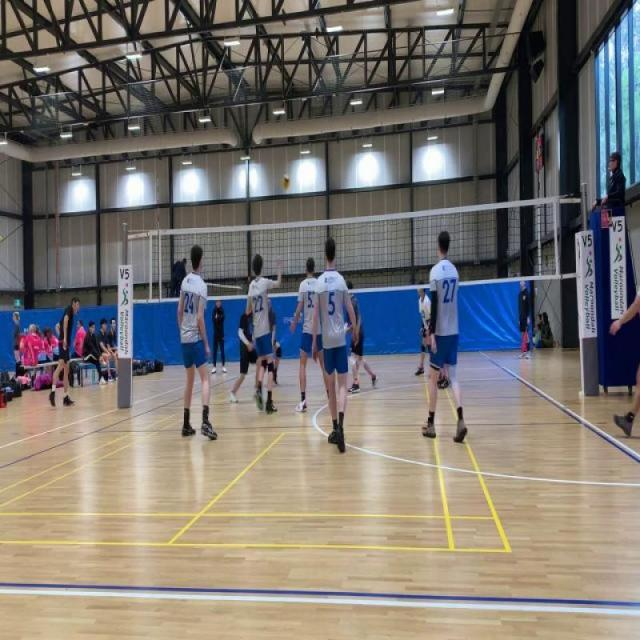volleyball: (280, 173, 292, 190), (0, 234, 2, 242)
